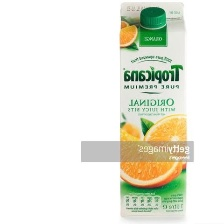carton: (112, 0, 191, 220)
